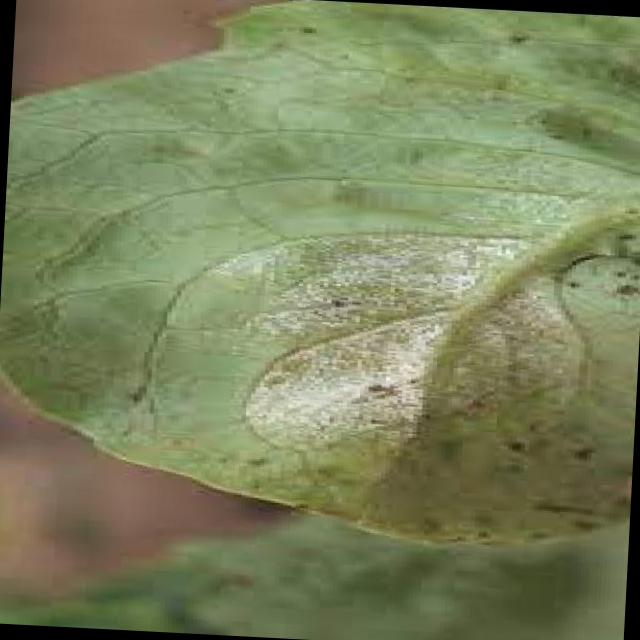Downy_Mildew: (158, 86, 630, 483)
